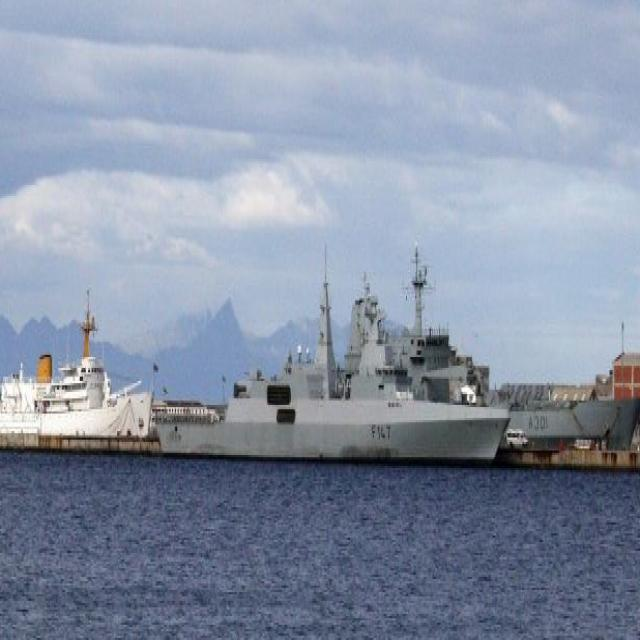Fragata: (149, 236, 516, 476)
